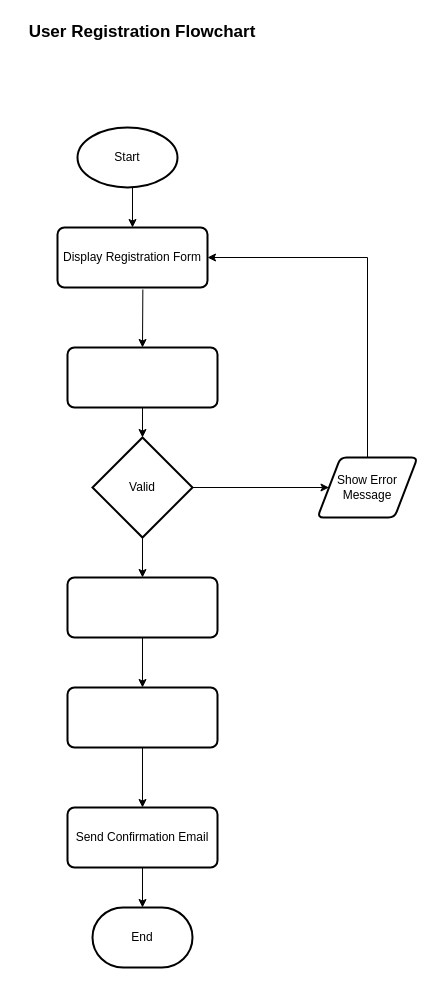
Image size: 435x985. Some labels were removed from this diagram. The shapes that lost their labels are listed below. From the top down, each one's centre as x and y in pixels, then its label:
At pixel 142 377: "Validate Input".
At pixel 142 607: "Hash Password".
At pixel 142 717: "Create User Record".
